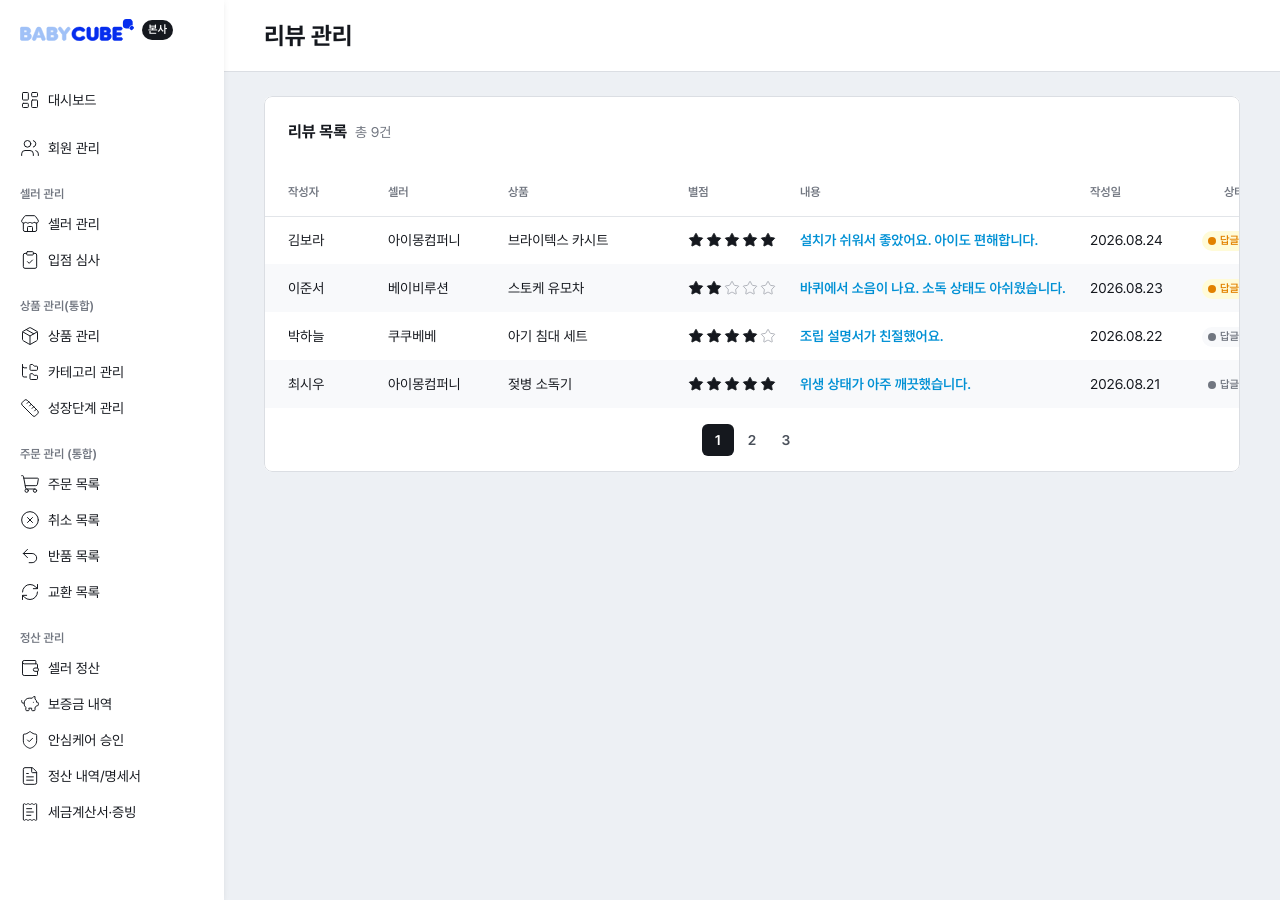
Test: ReviewListPage › 내용 → 리뷰 미리보기 › 내용을 누르면 본문 전문이 모달에 뜬다
Click the button "바퀴에서 소음이 나요. 소독 상태도 아쉬웠습니다." at (933,288), box [800,276,1066,300]
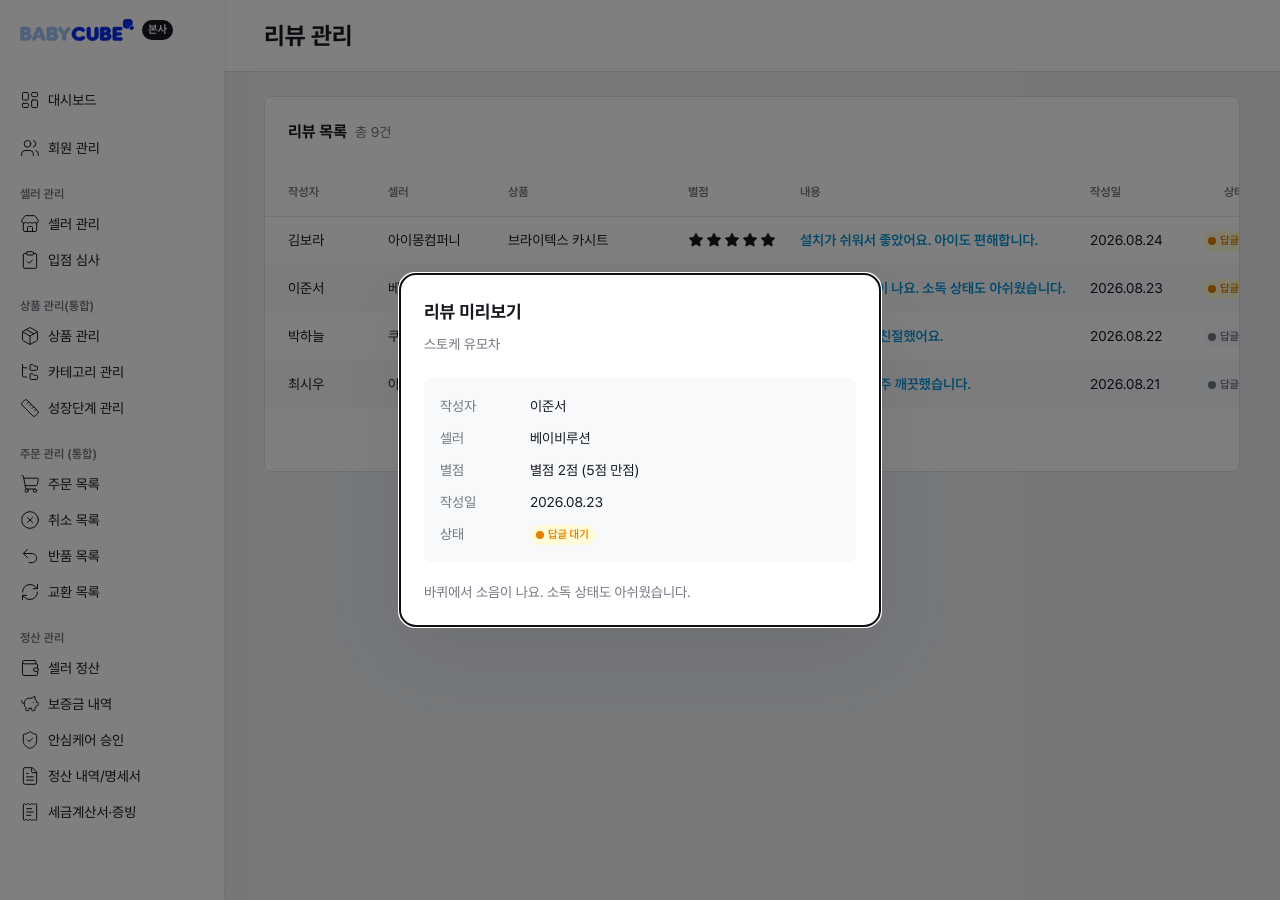
expect the heading "리뷰 미리보기" is shown: met, box [424,301,522,322]
expect the text "바퀴에서 소음이 나요. 소독 상태도 아쉬웠습니다." is shown: met, box [424,584,691,600]
